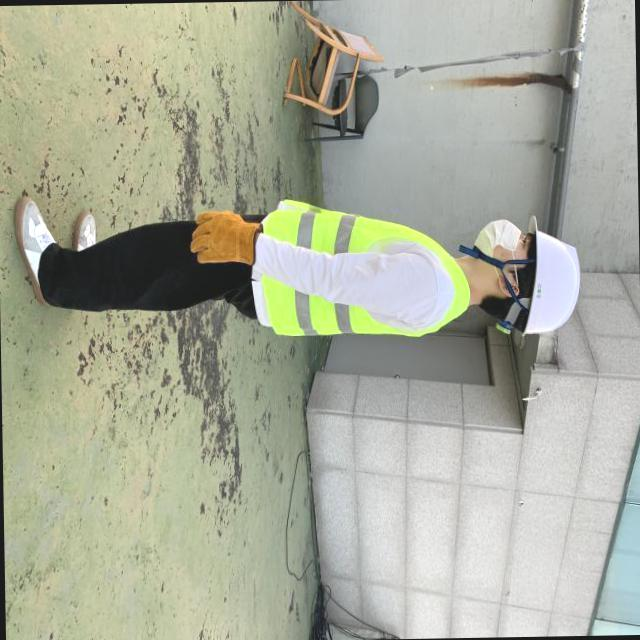boots: (12, 188, 56, 302), (63, 206, 107, 266)
helmet: (514, 212, 592, 346)
vest: (255, 189, 476, 346)
